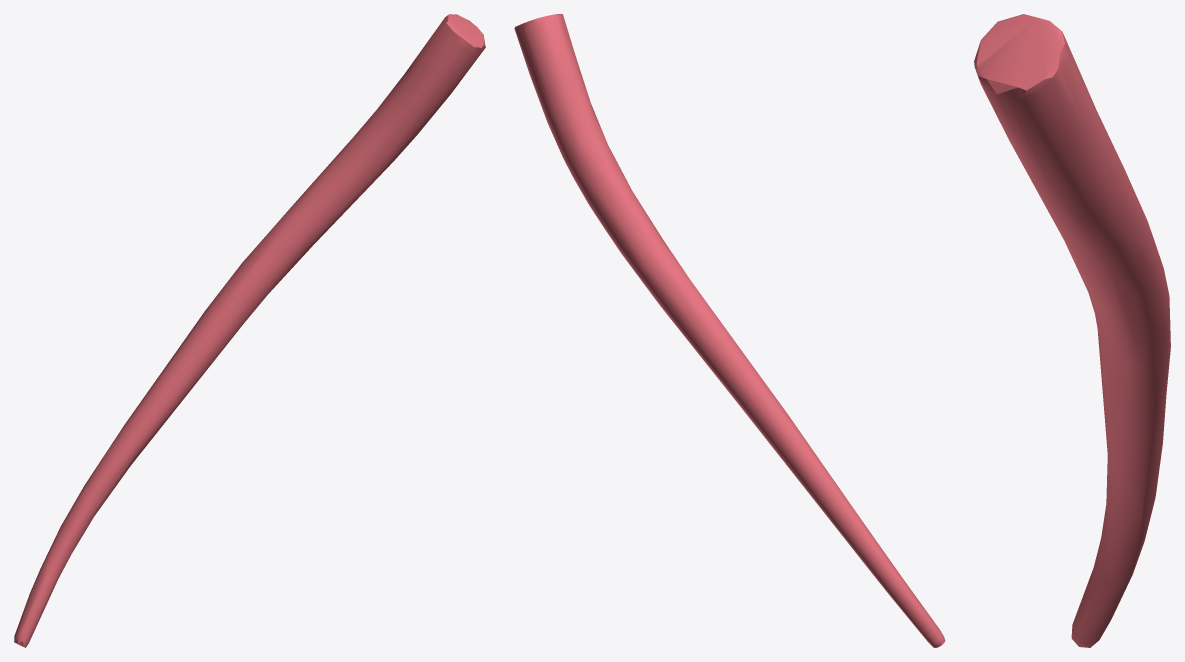
The model's file is fma8631_fj6075.glb.
3 views of the same model, side by side, from view 1: azimuth 30°, elevation 25°; view 2: azimuth 150°, elevation 25°; view 3: azimuth 270°, elevation 25° (orthographic). The views are drawn at different scales.
Parts seen in each view (by area): view 1: FMA8631_FJ6075; view 2: FMA8631_FJ6075; view 3: FMA8631_FJ6075.
Boxes of the visible parts, x1,y1,x2,y2 form: FMA8631_FJ6075: (14,14,485,647); FMA8631_FJ6075: (514,14,945,647); FMA8631_FJ6075: (974,14,1170,647).
Size of the model in its own units: 0.0597 by 0.0679 by 0.0121.
